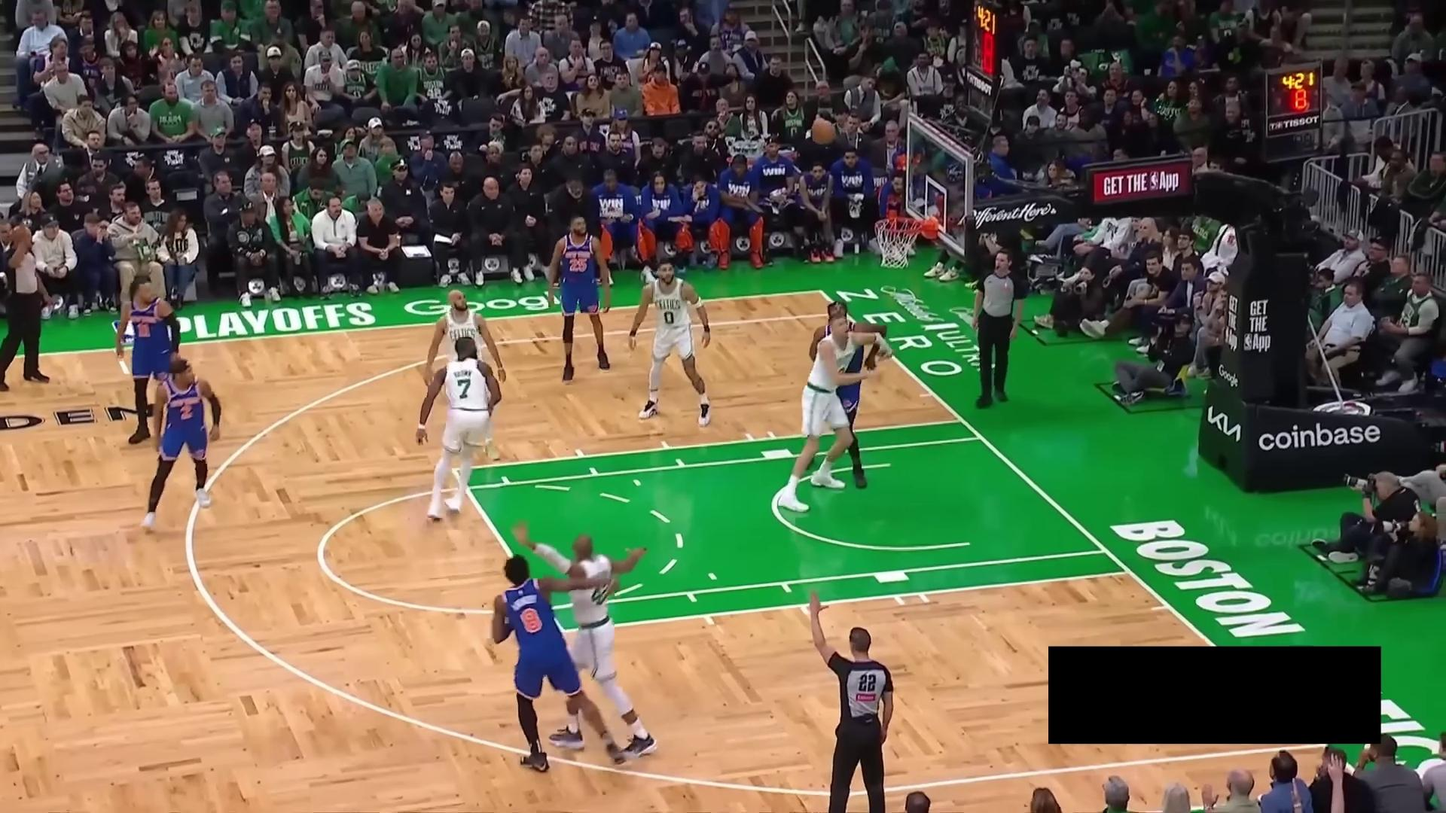ball: (810, 117, 837, 145)
number: (590, 580, 612, 607), (520, 607, 542, 633), (568, 256, 588, 273), (457, 378, 471, 399), (137, 321, 152, 339), (180, 403, 195, 420), (663, 309, 676, 326)
player: (514, 520, 657, 762), (490, 554, 626, 773), (777, 311, 893, 512), (802, 299, 889, 489), (416, 333, 501, 521), (422, 288, 508, 460), (140, 356, 223, 532), (627, 257, 712, 428), (114, 276, 183, 446), (546, 213, 613, 384)
referee: (809, 589, 894, 813), (971, 246, 1028, 409), (0, 218, 53, 392)
rim: (874, 216, 923, 234)
